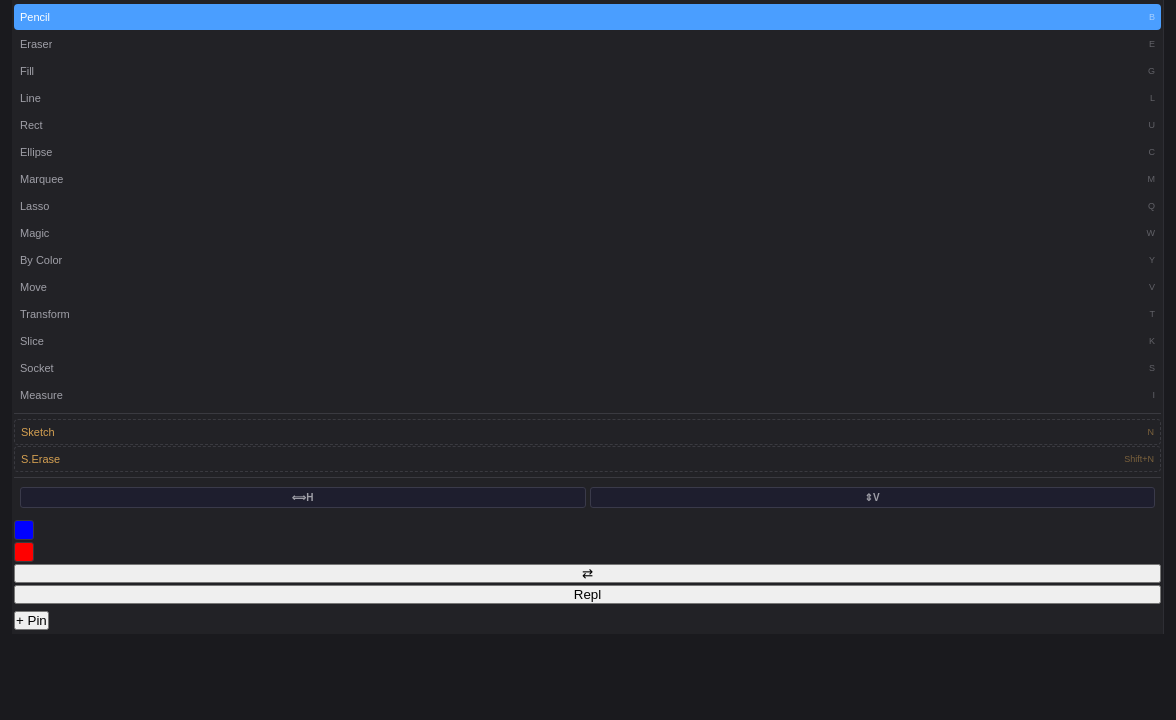
ToolRail › interactions › clicking primary swatch opens color picker
Click the element with test id "swatch-primary" at (24, 552), box [14,542,34,562]
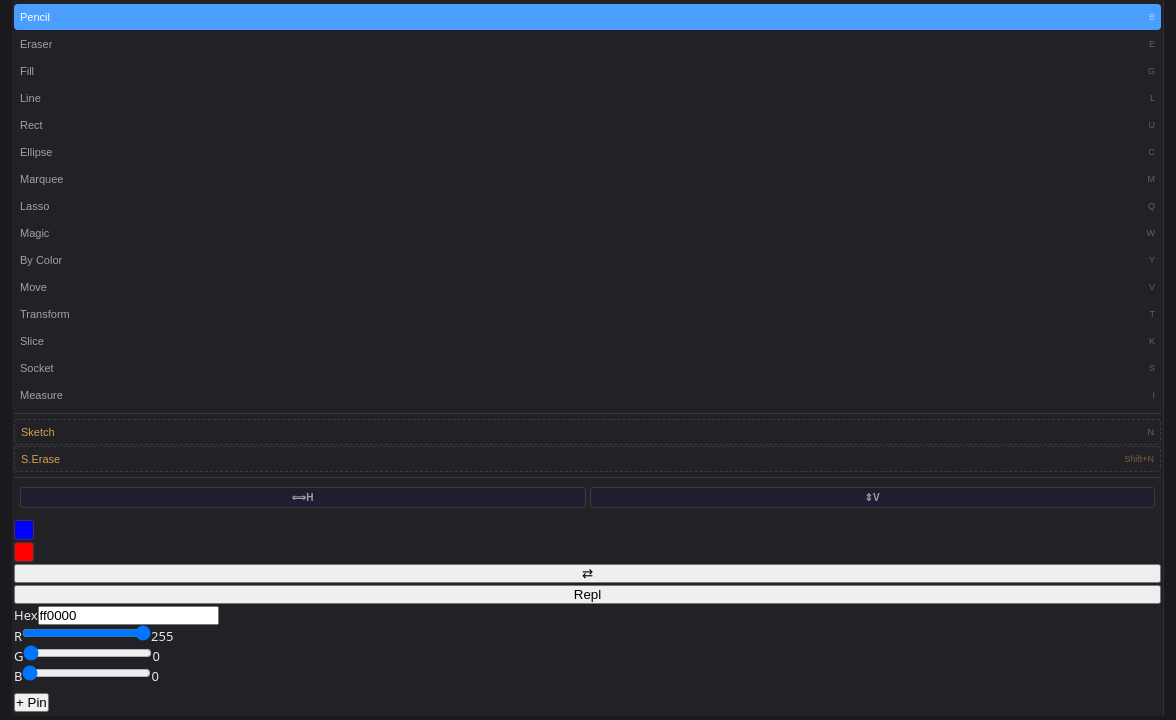
Check: the element with test id "color-picker-popover" is shown, box [14,606,219,685]
